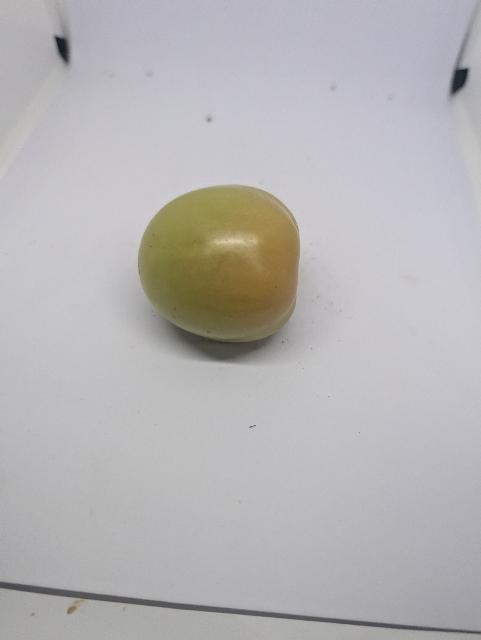breaker: (134, 183, 307, 349)
